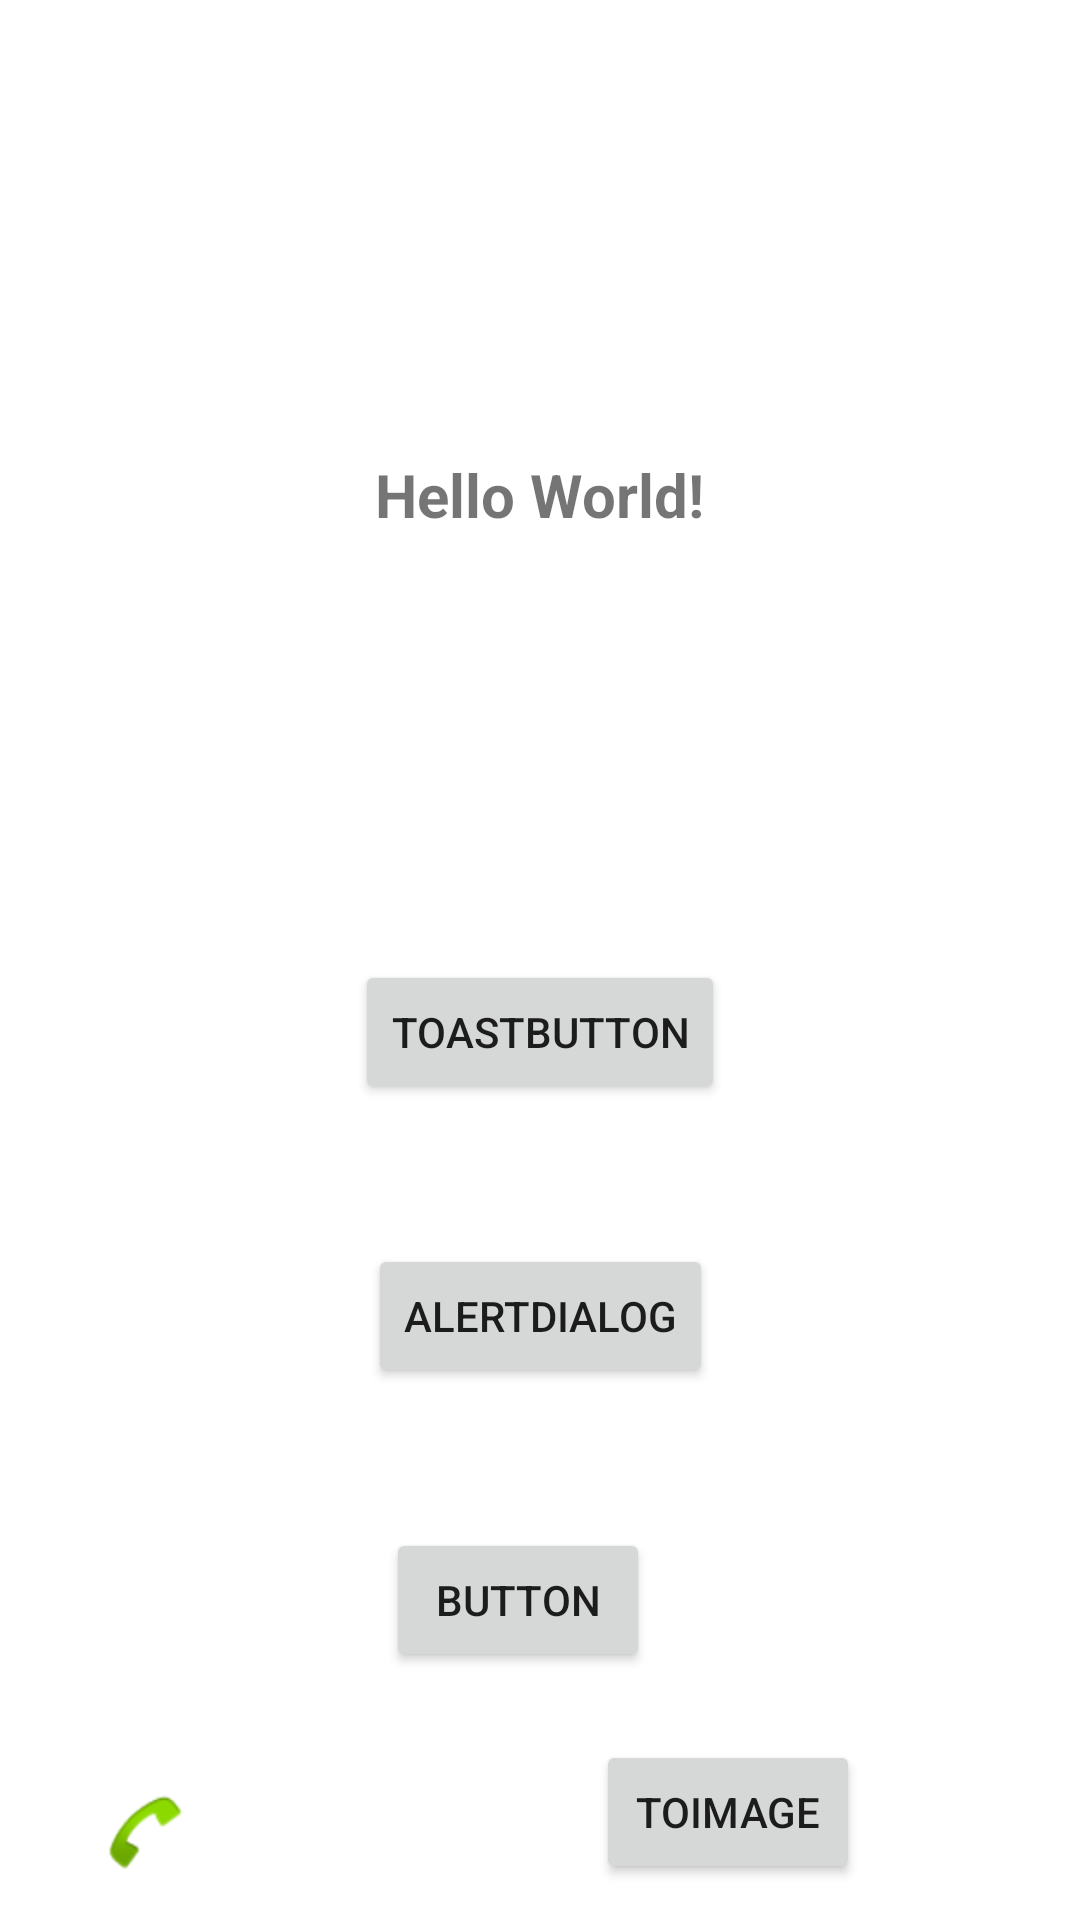

Icon click points for this 1080px×1920px phone screenshot, format [x,y]:
sym action call: [145,1832]
